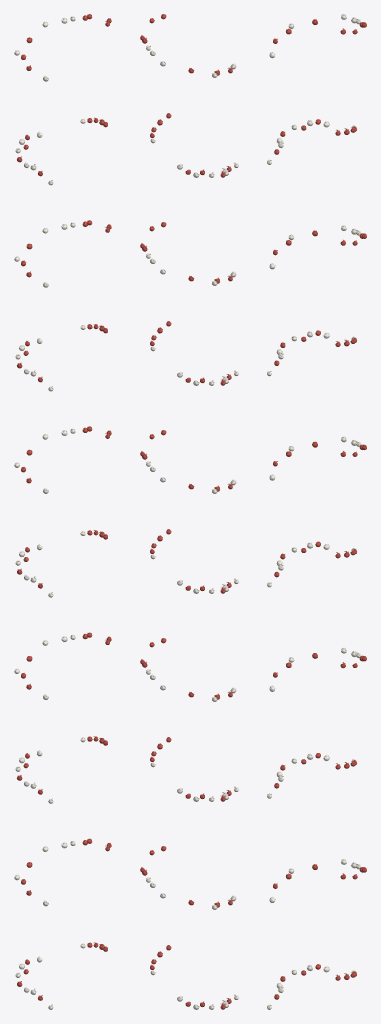
The model's file is Circle3Crowd0.obj.
3 views of the same model, side by side, from view 1: azimuth 30°, elevation 25°; view 2: azimuth 150°, elevation 25°; view 3: azimuth 330°, elevation 25° (orthographic). The views are drawn at different scales.
Visible parts, largest first — view 1: Circle3Crowd0; view 2: Circle3Crowd0; view 3: Circle3Crowd0.
Part boxes in pixels (x1,y1,x2,y2): Circle3Crowd0: (14, 14, 111, 1009); Circle3Crowd0: (140, 14, 238, 1009); Circle3Crowd0: (267, 14, 366, 1009).
Bounding box in the file's own units: 29.97 × 328 × 25.65.
1 material, 1 textured.
